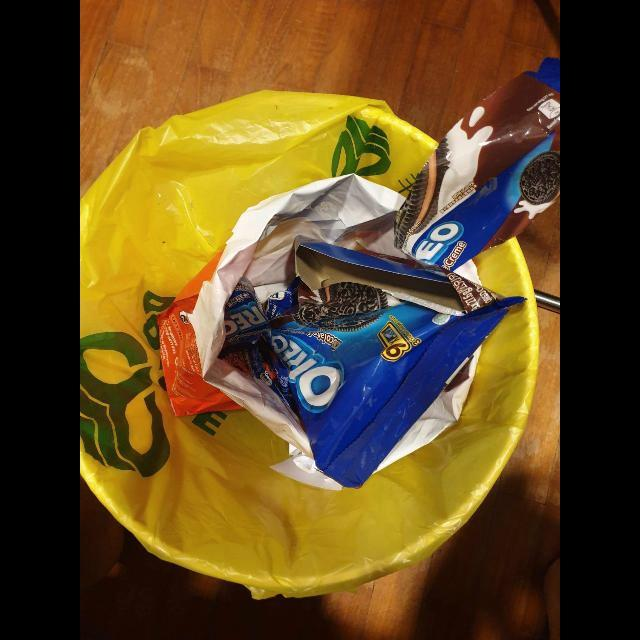cardboard: (294, 241, 468, 317)
food_wrapper: (220, 57, 560, 490), (222, 277, 300, 349)
